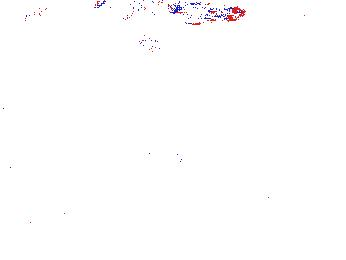red belly glassfish: (137, 31, 179, 56), (21, 4, 60, 24)
redtail glassfish: (169, 1, 246, 23), (94, 1, 166, 14)
